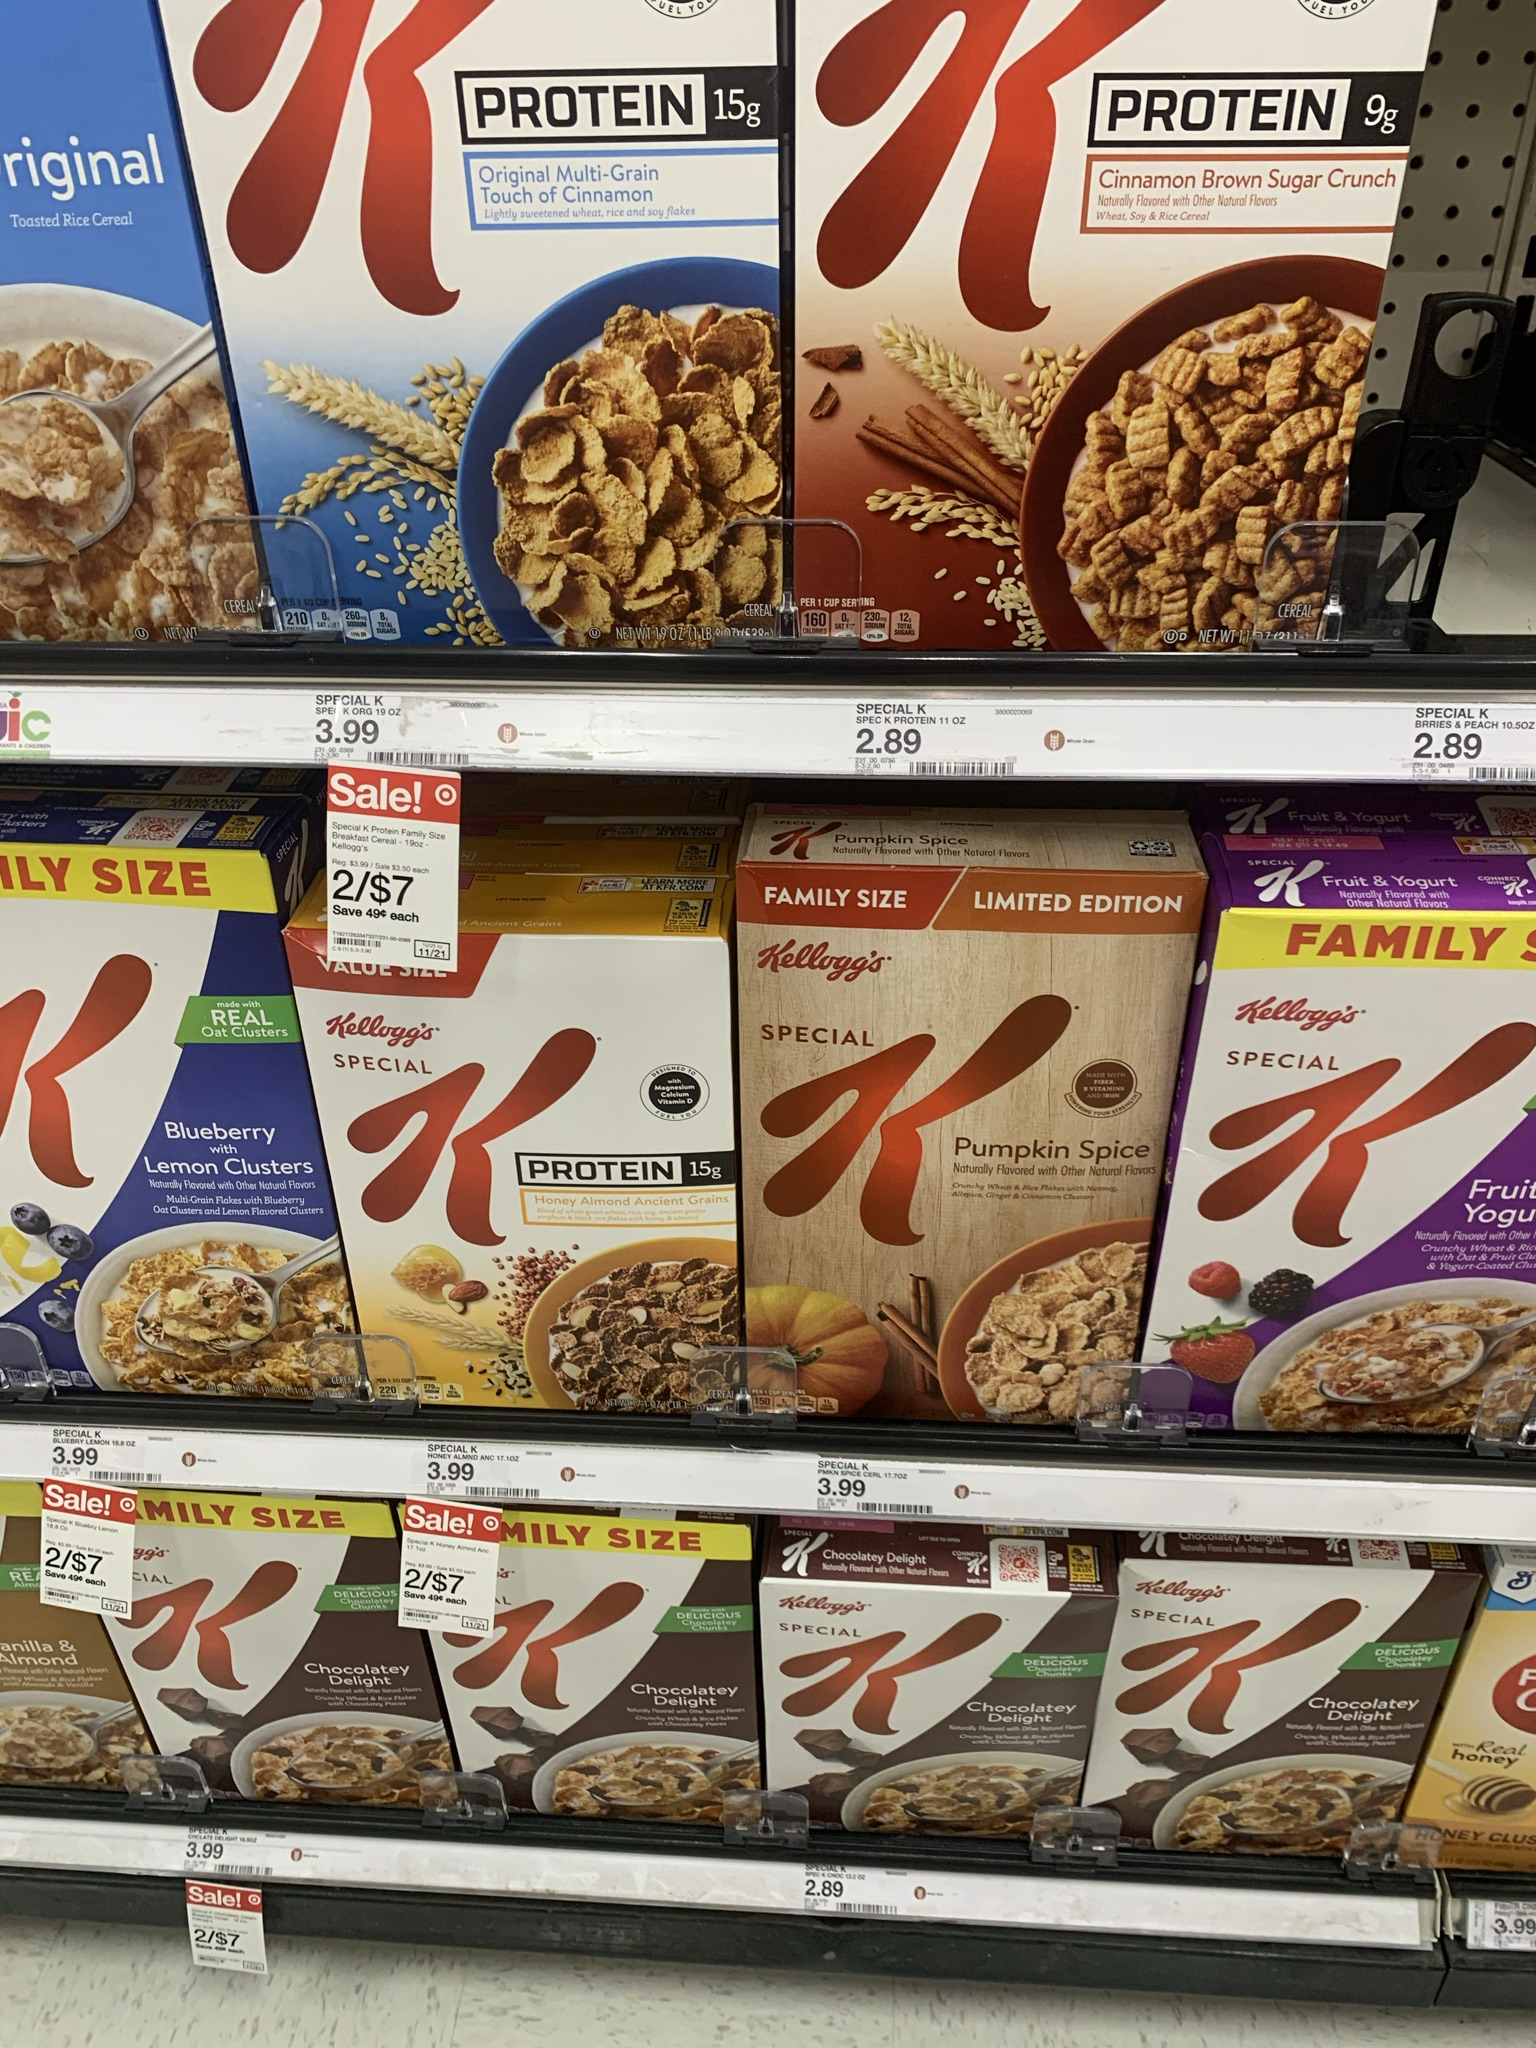Cereal: (736, 864, 1146, 1426), (763, 1587, 1091, 1838)
